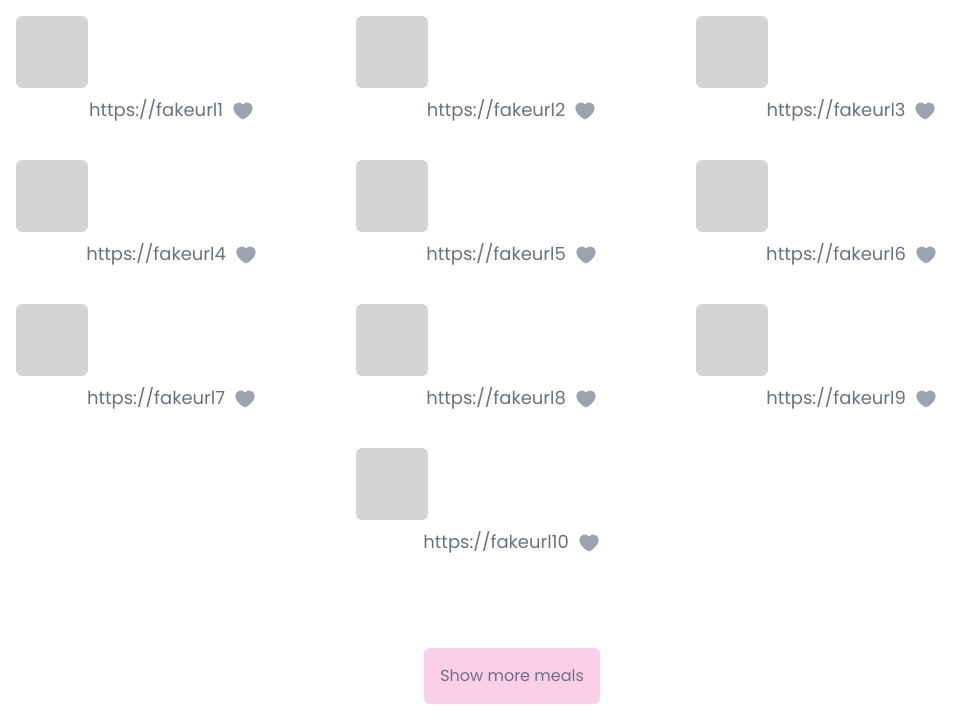
Test case: Meal component › displays more meals when "show more meals" button is clicked
The width and height of the screenshot is (953, 721).
Click the button "Show more meals": (512, 676) [424,648,600,704]
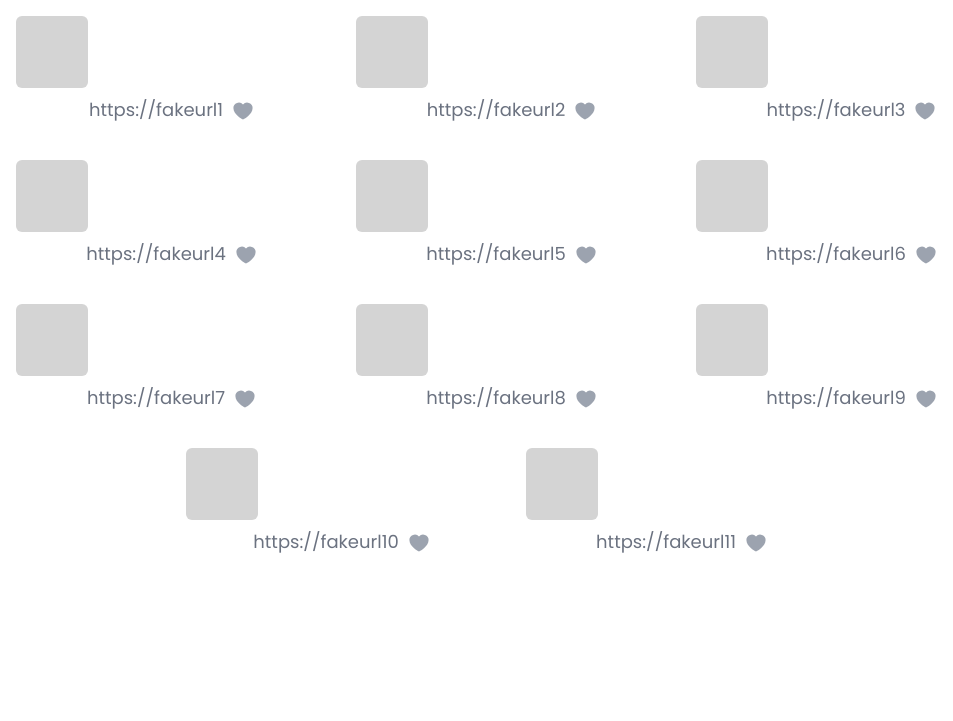
Result: the button "Show more meals" is gone
